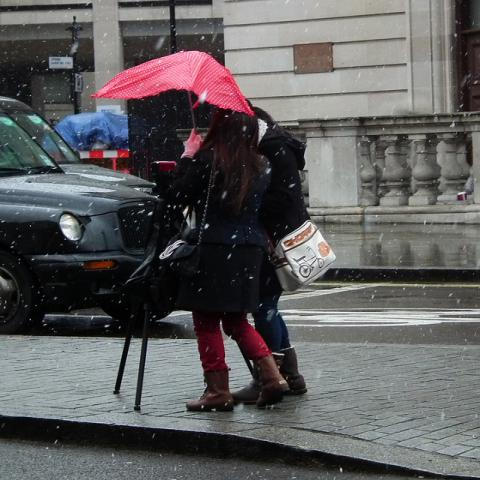car: (1, 98, 184, 341)
